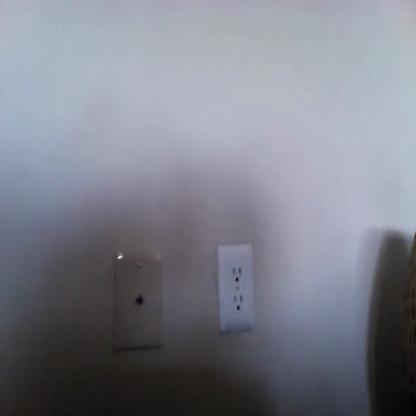OUTLET: (217, 246, 253, 330)
